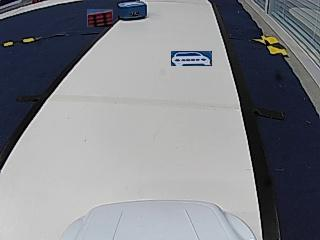prop: (118, 1, 146, 21)
